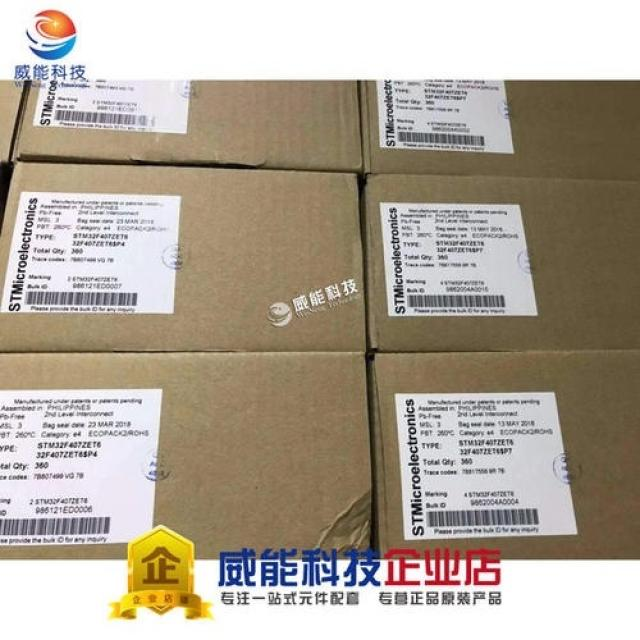box: (0, 352, 371, 559), (0, 162, 368, 352), (368, 348, 639, 558), (363, 173, 639, 351), (12, 80, 363, 173), (358, 80, 639, 179)
